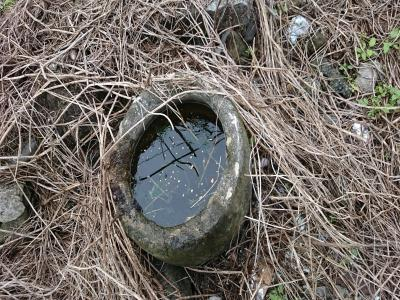bowl: (105, 75, 257, 271)
